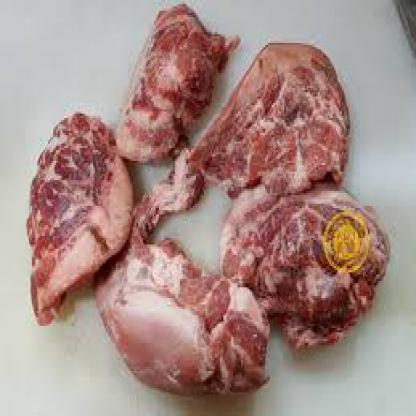pork: (144, 43, 362, 210), (109, 238, 273, 405), (228, 184, 392, 350), (22, 120, 128, 296), (127, 11, 230, 156)
